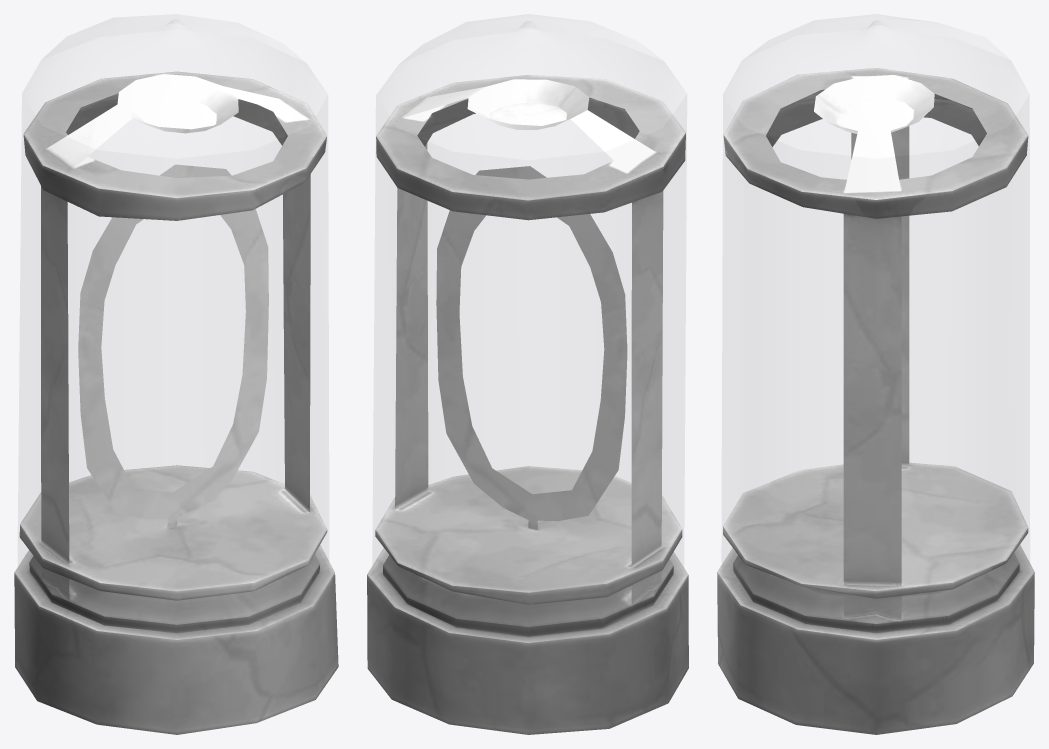
File: obj_num00_alt.gltf
The picture shows the model from 3 angles, left to right: view 1: azimuth 30°, elevation 25°; view 2: azimuth 150°, elevation 25°; view 3: azimuth 270°, elevation 25°; orthographic projection.
Visible parts, largest first — view 1: obj_num00_alt, obj_num00_glass; view 2: obj_num00_alt, obj_num00_glass; view 3: obj_num00_alt, obj_num00_glass.
Boxes of the visible parts, bbox=[...] form: obj_num00_alt: bbox=[14, 71, 338, 734]; obj_num00_glass: bbox=[18, 14, 328, 570]; obj_num00_alt: bbox=[367, 75, 688, 734]; obj_num00_glass: bbox=[373, 14, 686, 572]; obj_num00_alt: bbox=[717, 68, 1034, 734]; obj_num00_glass: bbox=[722, 14, 1029, 570].
Size of what is drawn, in the model's own units: 0.3243 by 0.7152 by 0.3192.
2 materials, 1 textured.
